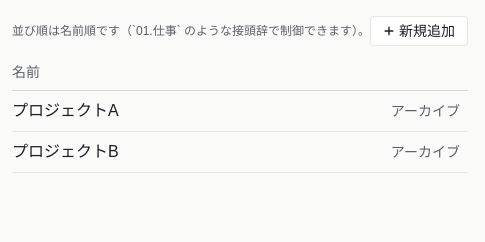
ProjectsTable（画面定義書03 §3.3: 名前とアーカイブだけの単純なCRUD） › インライン編集（画面定義書03 §4「編集方式」/ 00_共通 §2.3） › 失敗したらメッセージを出し、編集状態のまま残す（入力し直せる）
Click the button "プロジェクトA": coordinates (65, 111) 12,99 -> 119,123
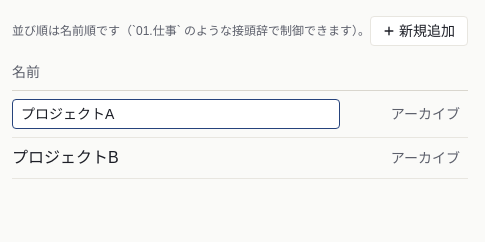
Clear the field showing "プロジェクトA": coordinates (176, 114) 12,99 -> 340,129
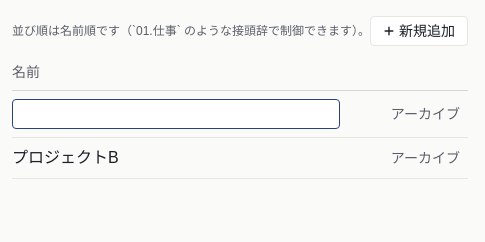
Leave the field showing "プロジェクトA", box 12,99 -> 340,129
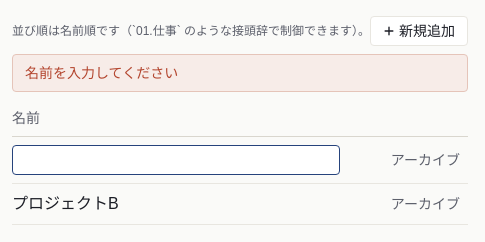
Check: the button "プロジェクトA" is not shown
Check: the text "名前を入力してください" is shown, box 12,54 -> 468,92
